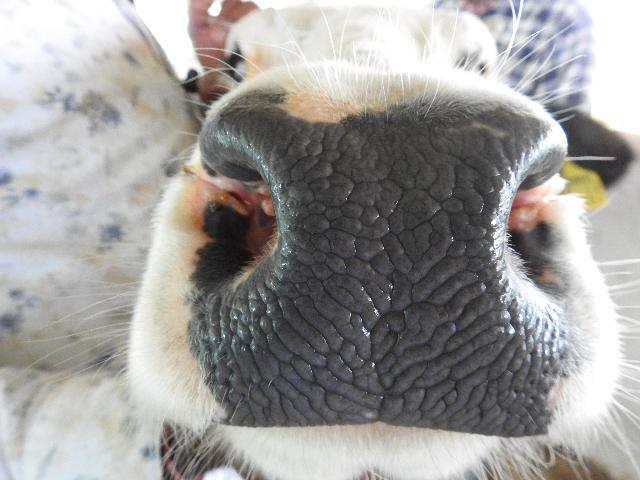Muzzle: (233, 119, 522, 431)
